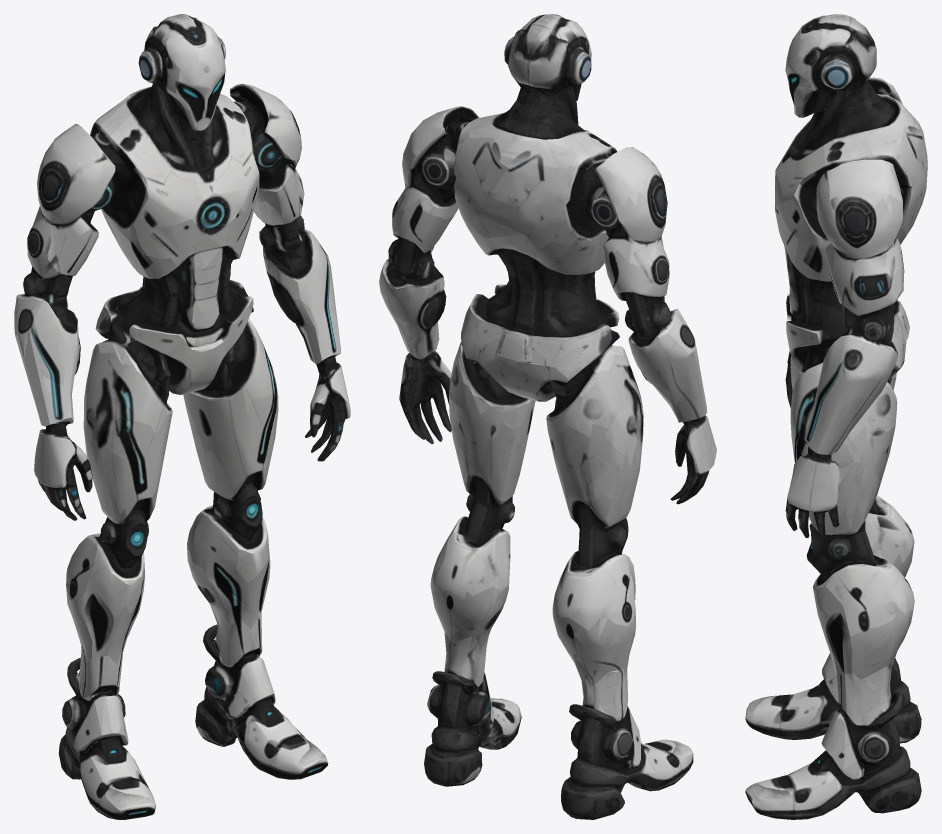
Rendered from Meshy_AI_Cybernetic_Sentinel_0918184736_texture.glb.
The picture shows the model from 3 angles, left to right: view 1: azimuth 30°, elevation 25°; view 2: azimuth 150°, elevation 25°; view 3: azimuth 270°, elevation 25°; orthographic projection.
Parts seen in each view (by area): view 1: output_unwrapped; view 2: output_unwrapped; view 3: output_unwrapped.
Part boxes in pixels (left/top/right/bottom): output_unwrapped: left=14, top=14, right=350, bottom=819; output_unwrapped: left=379, top=14, right=716, bottom=819; output_unwrapped: left=745, top=14, right=927, bottom=819.
Bounding box in the file's own units: 0.8157 × 1.9 × 0.417.
1 material, 1 textured.
